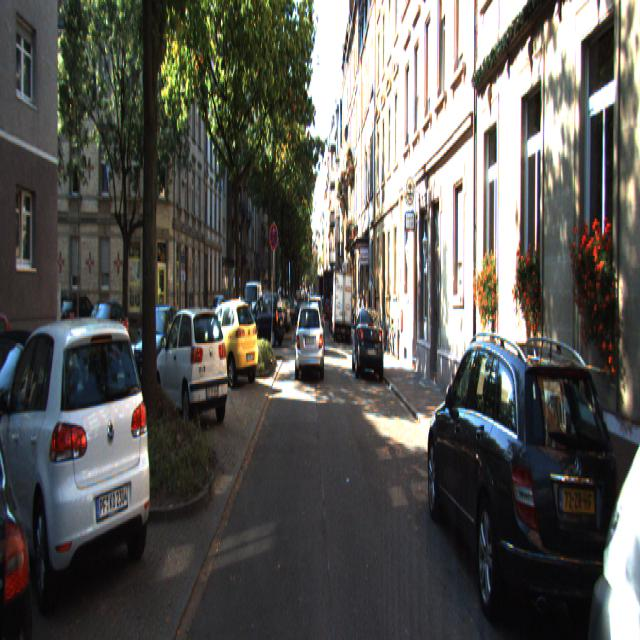Car: (428, 323, 640, 638), (0, 311, 159, 628), (150, 308, 231, 434), (199, 297, 262, 391), (129, 301, 181, 385), (76, 300, 130, 367), (352, 298, 386, 376), (244, 293, 286, 350), (295, 301, 325, 380), (0, 310, 20, 405), (332, 270, 352, 340), (305, 295, 325, 355)
